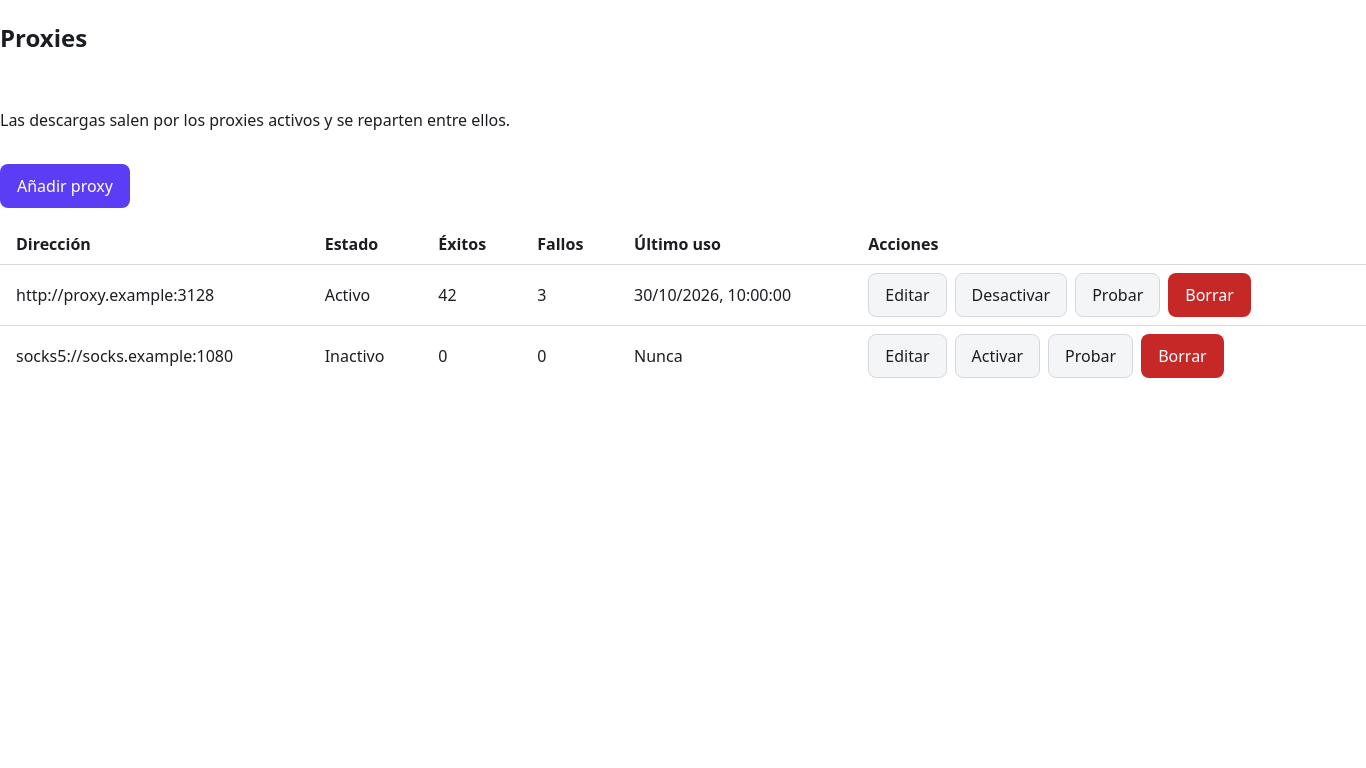
ProxiesView › muestra el error de validación junto a la dirección y deja el formulario abierto
Click the button "Añadir proxy" at (65, 186), box [0,164,130,208]
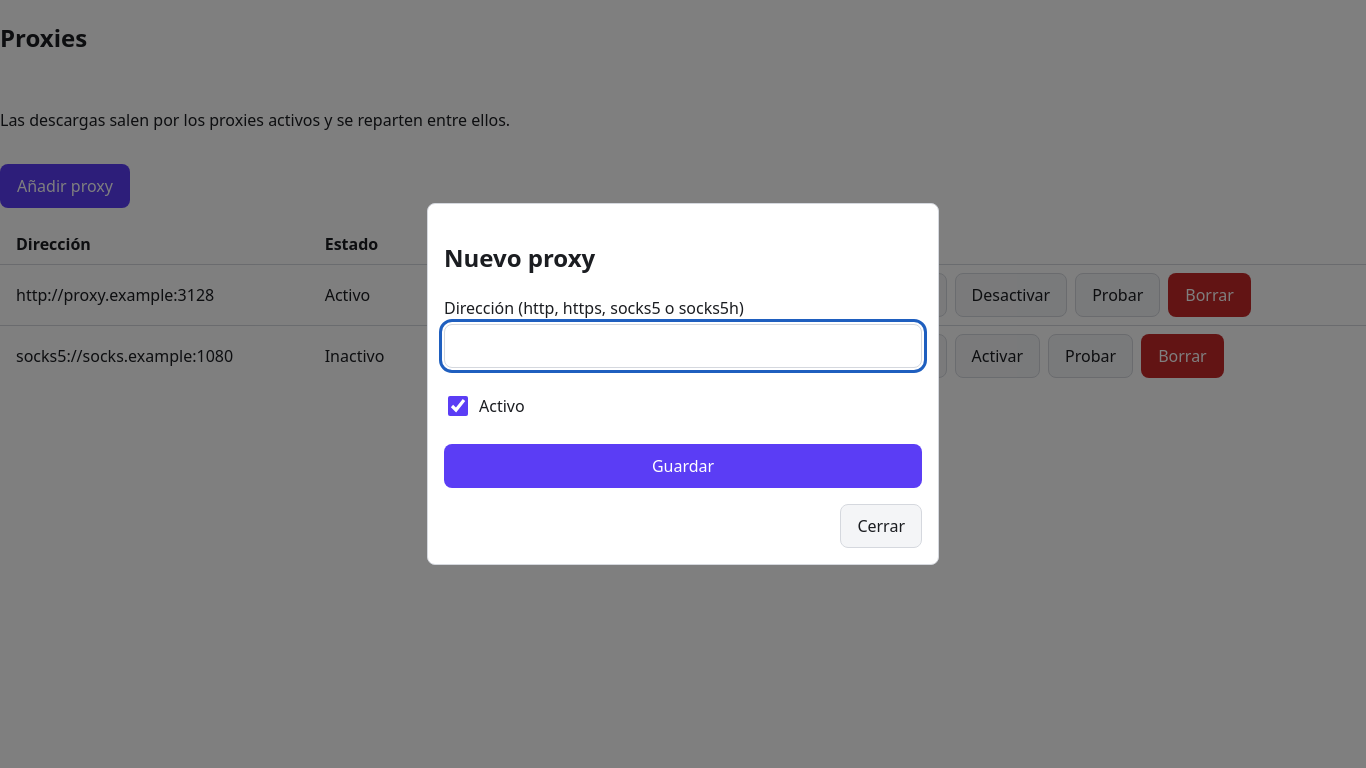
Submit the form named "proxy", box [444,296,922,488]
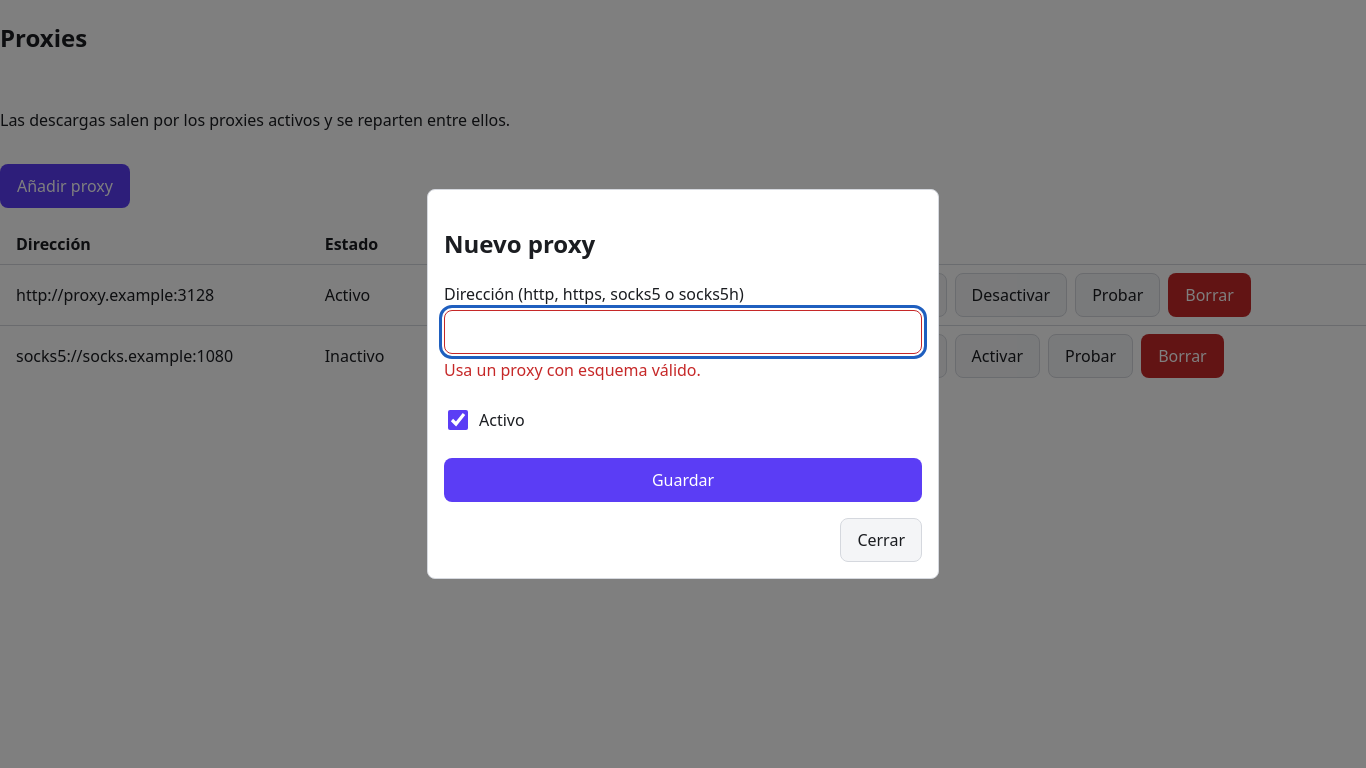
Result: the dialog is shown at [427,189,939,579]
Result: the text with class "field__error" reads "Usa un proxy con esquema válido." at [444,359,701,381]
